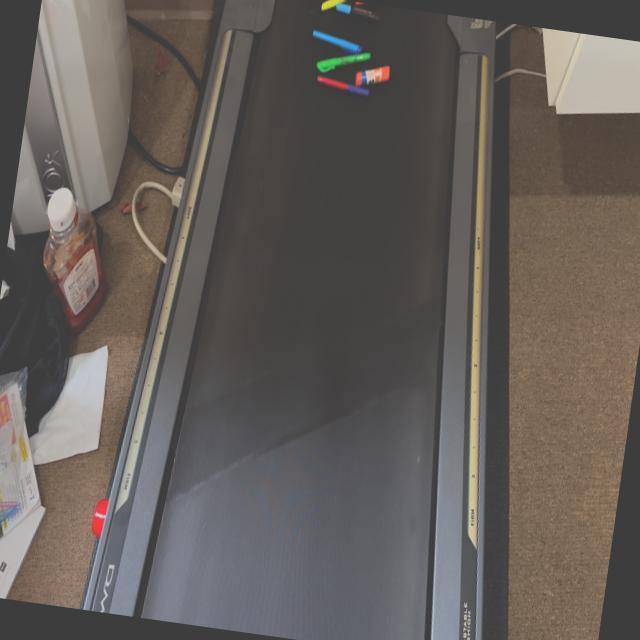Trash: (302, 22, 398, 102), (317, 0, 385, 25)
